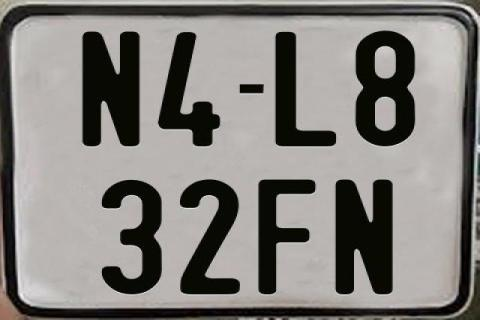0: (352, 31, 418, 149), (177, 177, 241, 297), (155, 30, 221, 146), (100, 179, 160, 299)
F: (257, 179, 315, 299)
L: (275, 30, 340, 148)
N: (82, 29, 146, 145), (335, 178, 397, 296)
